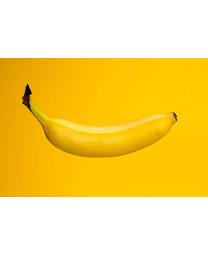banana: (20, 82, 179, 159)
